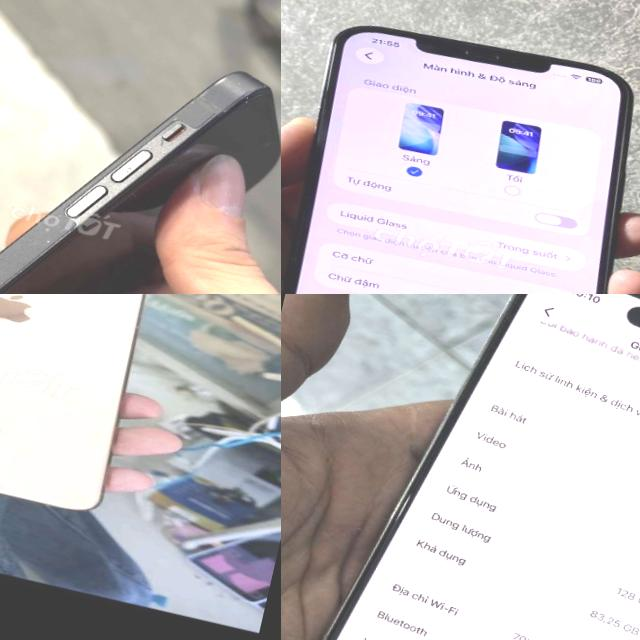gen_12_13: (281, 0, 640, 294), (0, 0, 281, 294)
gen_14: (293, 294, 640, 640)
gen_x_xs: (0, 294, 196, 539)
